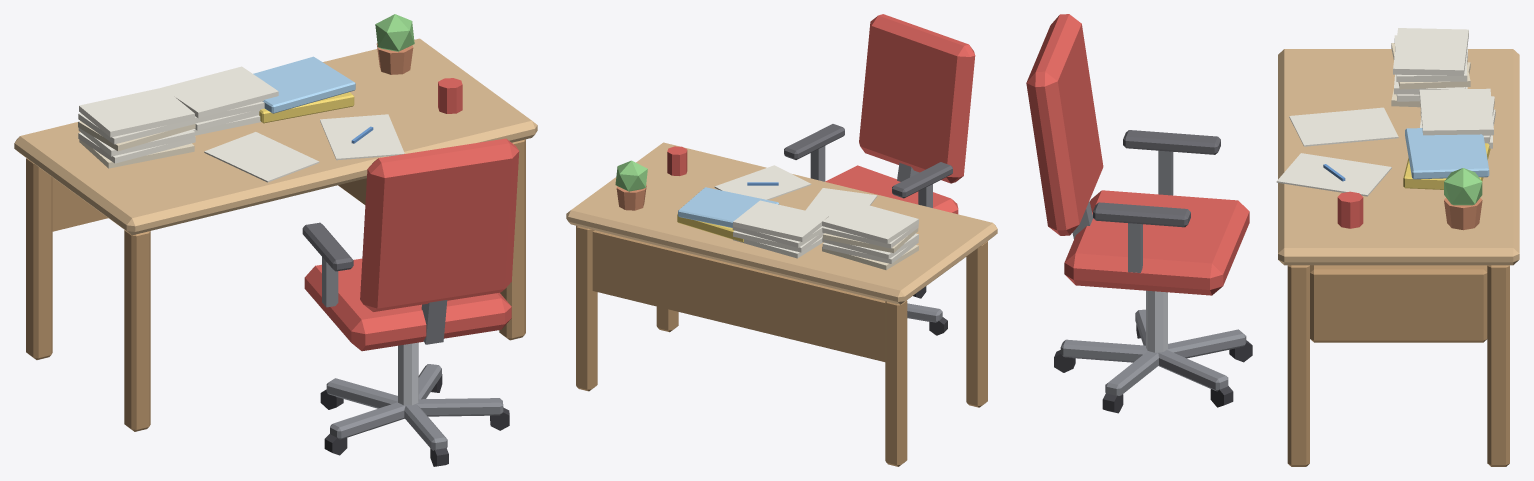
The model's file is prop_desk_lola_01.glb.
3 renders of one model, left to right at view 1: azimuth 30°, elevation 25°; view 2: azimuth 150°, elevation 25°; view 3: azimuth 270°, elevation 25°, orthographic. The views are drawn at different scales.
Visible parts, largest first — view 1: prop_desk_lola_01_body; view 2: prop_desk_lola_01_body; view 3: prop_desk_lola_01_body.
Part boxes in pixels (<box>): prop_desk_lola_01_body: <box>14,14,537,466</box>; prop_desk_lola_01_body: <box>566,14,997,466</box>; prop_desk_lola_01_body: <box>1026,14,1519,466</box>.
Size of the model in its own units: 1.5 by 1.12 by 1.53.
